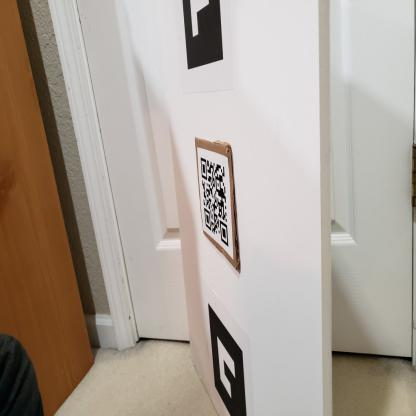qr: (198, 153, 232, 246)
